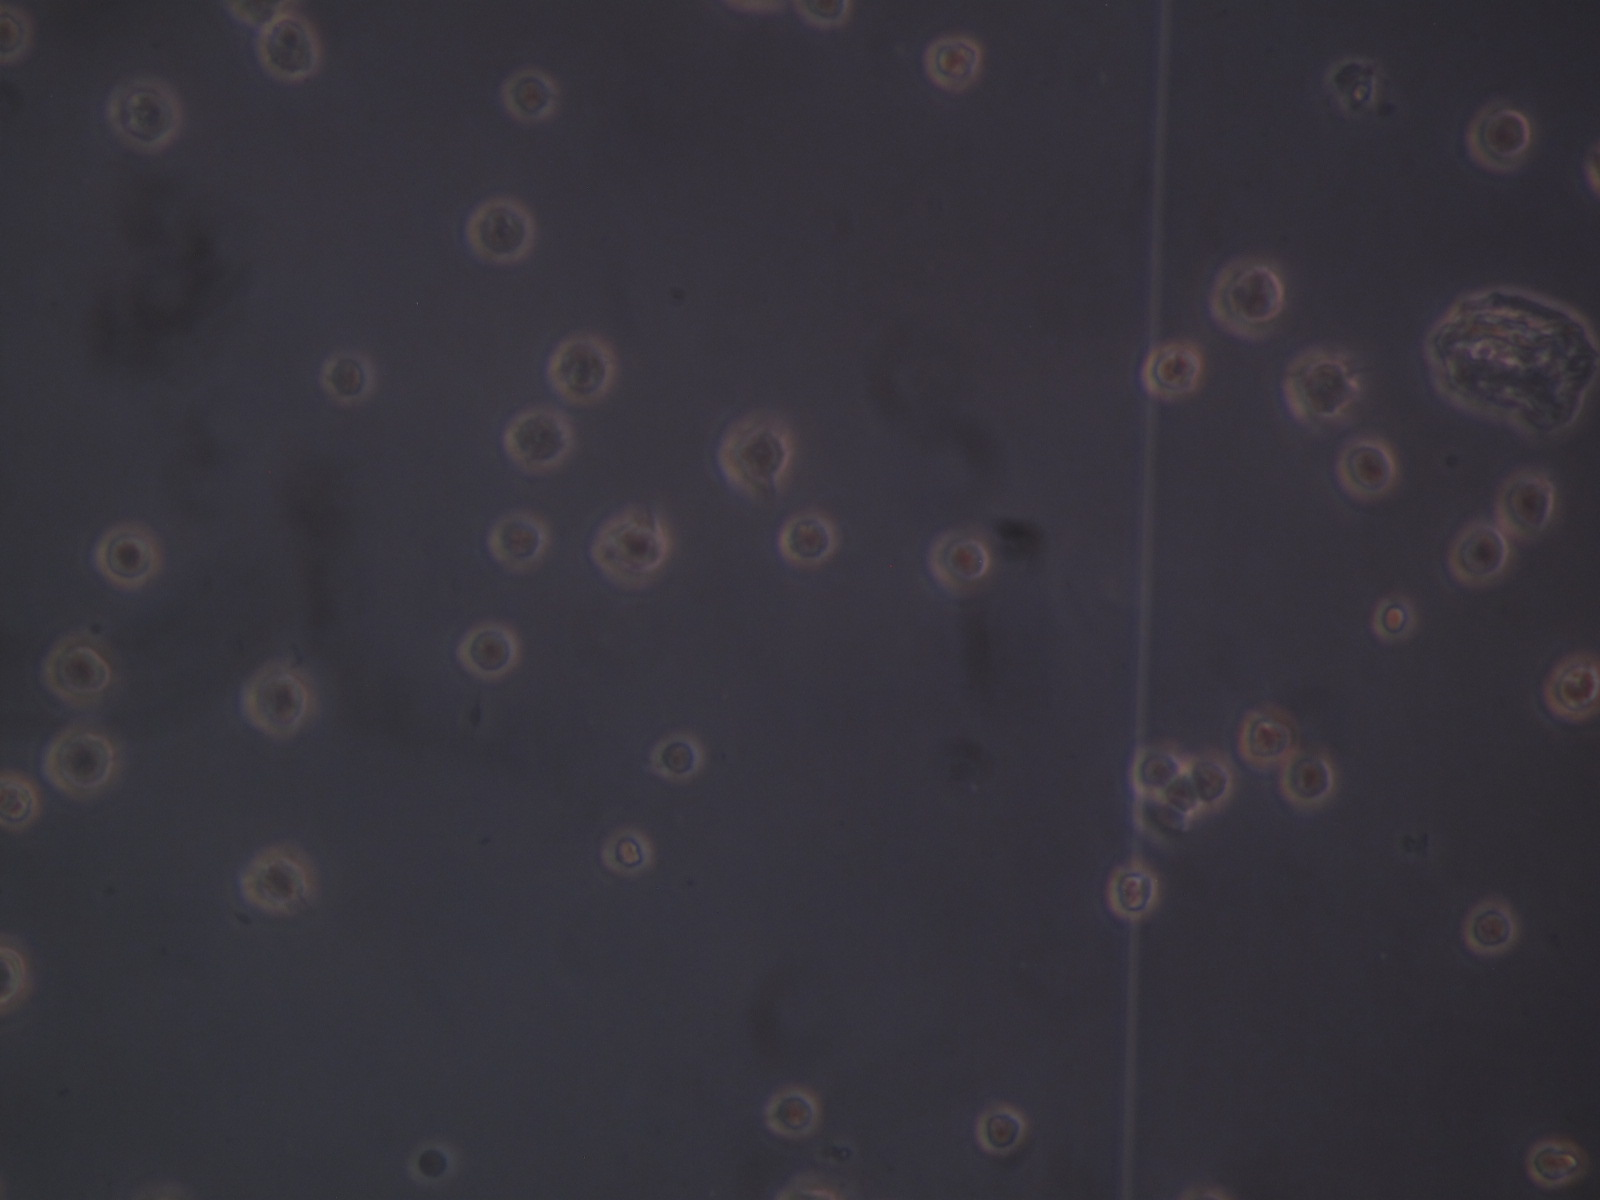hemo: (100, 79, 183, 153), (595, 516, 670, 595), (1281, 350, 1357, 429), (1212, 260, 1283, 342), (718, 413, 789, 495), (45, 720, 115, 799), (239, 667, 307, 740), (42, 635, 113, 703), (548, 337, 617, 405), (501, 407, 574, 471), (466, 198, 535, 263), (94, 522, 163, 587), (242, 848, 310, 913), (929, 527, 989, 597), (260, 16, 323, 81), (488, 509, 551, 572), (1466, 110, 1531, 170), (1448, 522, 1508, 584), (1337, 440, 1396, 500), (1498, 471, 1553, 536), (319, 348, 377, 407), (1141, 342, 1201, 398), (1328, 55, 1385, 113), (776, 511, 837, 565), (459, 625, 519, 679), (1238, 710, 1295, 766), (923, 33, 981, 88), (1546, 655, 1596, 717), (1524, 1137, 1587, 1186), (1131, 793, 1196, 838), (501, 69, 556, 121), (1107, 865, 1158, 919), (976, 1103, 1027, 1157), (598, 827, 653, 877), (1280, 758, 1335, 807), (1464, 903, 1517, 953), (653, 731, 706, 782), (766, 1088, 819, 1137), (1130, 747, 1180, 795), (1191, 753, 1233, 808), (1, 775, 42, 829), (1162, 771, 1204, 817), (1374, 596, 1414, 640), (1, 3, 30, 62), (1, 945, 28, 1003)
